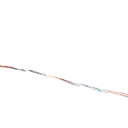crackTip: (1, 63, 128, 102)
